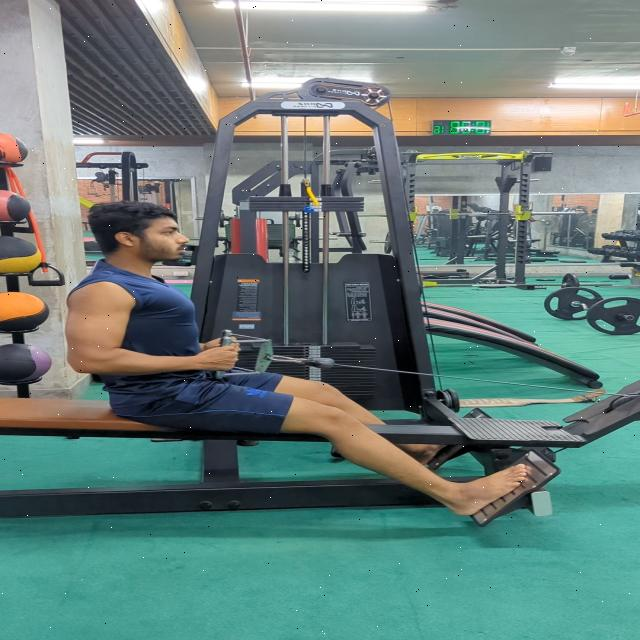Normal_RowingMachineExercise: (62, 200, 535, 518)
